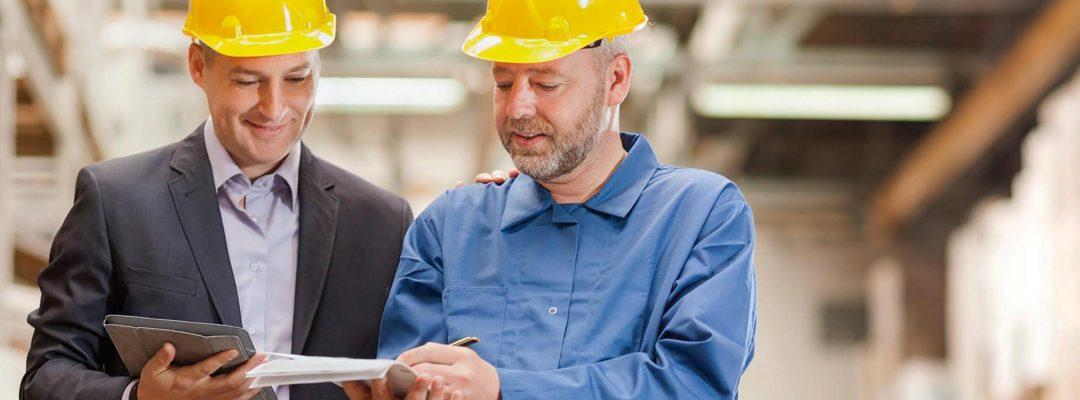helmet: (460, 1, 651, 66), (179, 1, 340, 63)
